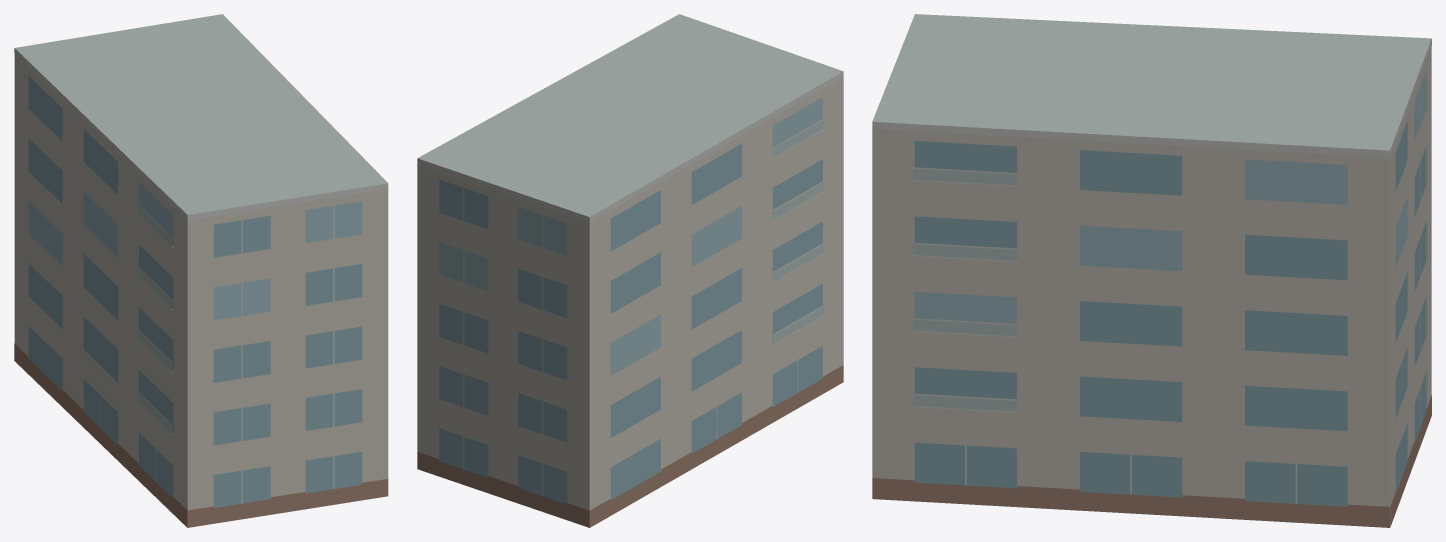
Rendered from survey-upis-32997339.glb.
3 renders of one model, left to right at view 1: azimuth 30°, elevation 25°; view 2: azimuth 150°, elevation 25°; view 3: azimuth 270°, elevation 25°, orthographic. The views are drawn at different scales.
Visible parts, largest first — view 1: survey-upis-32997339.tmp; view 2: survey-upis-32997339.tmp; view 3: survey-upis-32997339.tmp.
Part boxes in pixels (x1,y1,x2,y2): survey-upis-32997339.tmp: [14, 14, 388, 527]; survey-upis-32997339.tmp: [417, 14, 843, 527]; survey-upis-32997339.tmp: [872, 14, 1431, 527].
Bounding box in the file's own units: 10.26 × 13.2 × 17.76.
